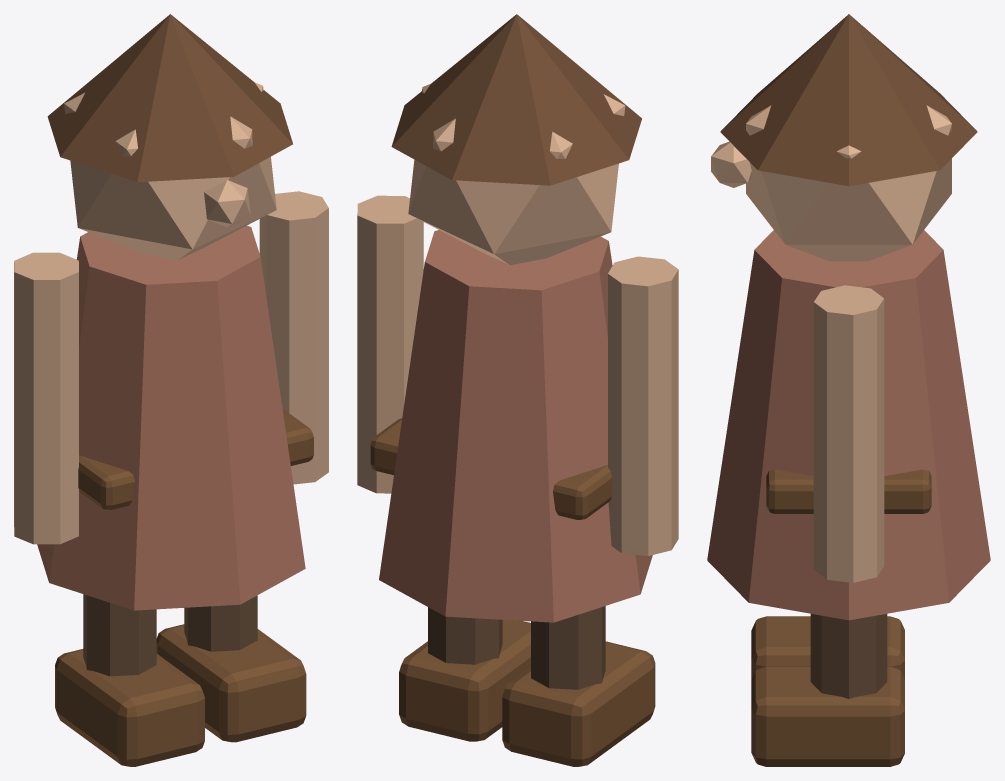
Rendered from villager.glb.
3 renders of one model, left to right at view 1: azimuth 30°, elevation 25°; view 2: azimuth 150°, elevation 25°; view 3: azimuth 270°, elevation 25°, orthographic. The views are drawn at different scales.
Parts seen in each view (by area): view 1: VillagerBelt, Cylinder.007, Cylinder.008, Cylinder.009 (×2); view 2: VillagerBelt, Cylinder.007, Cylinder.008, Cylinder.009 (×2); view 3: VillagerBelt, Cylinder.008, Cylinder.009.
Boxes of the visible parts, left/top/right/bottom form: VillagerBelt: left=37, top=14, right=313, bottom=766; Cylinder.007: left=14, top=252, right=78, bottom=544; Cylinder.008: left=259, top=191, right=328, bottom=484; Cylinder.009 (×2): left=83, top=594, right=257, bottom=676; VillagerBelt: left=370, top=14, right=655, bottom=766; Cylinder.007: left=608, top=256, right=678, bottom=555; Cylinder.008: left=357, top=195, right=423, bottom=493; Cylinder.009 (×2): left=428, top=606, right=605, bottom=689; VillagerBelt: left=707, top=14, right=990, bottom=766; Cylinder.008: left=813, top=285, right=884, bottom=582; Cylinder.009: left=810, top=614, right=887, bottom=698.
Size of the model in its own units: 0.6091 by 1.33 by 0.48.
Materials: 1 (1 with a texture image).
